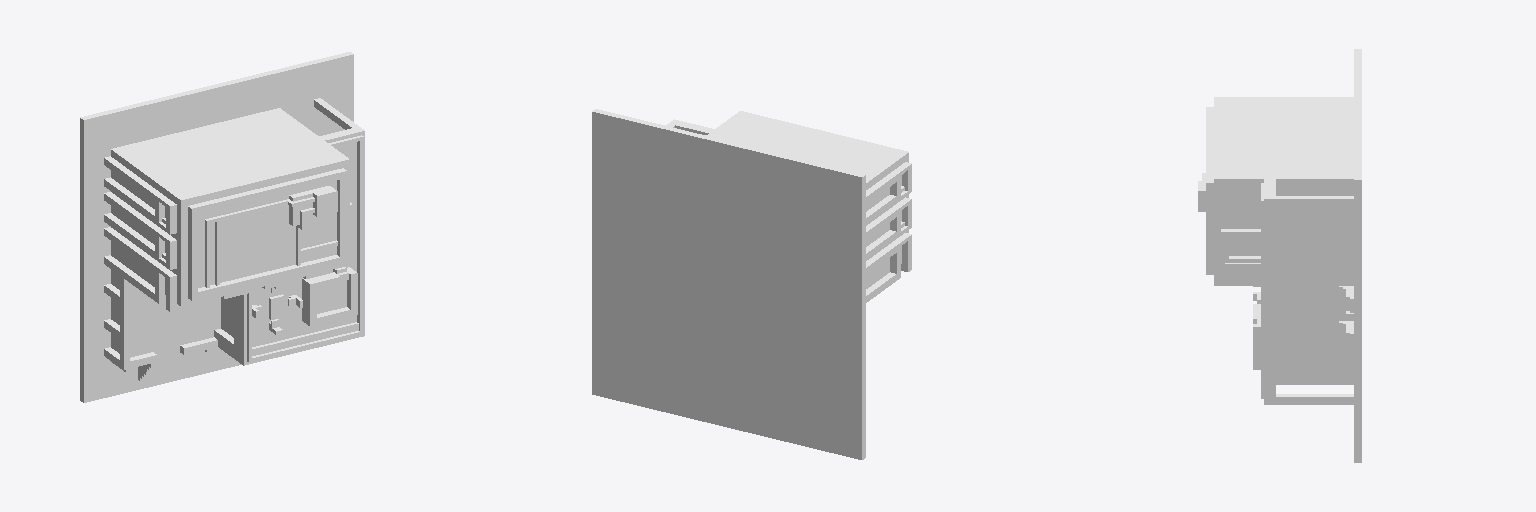
File: house2.obj
The picture shows the model from 3 angles: view 1: azimuth 30°, elevation 25°; view 2: azimuth 150°, elevation 25°; view 3: azimuth 270°, elevation 25°; orthographic projection.
Size of the model in its own units: 79.98 by 79.98 by 41.98.